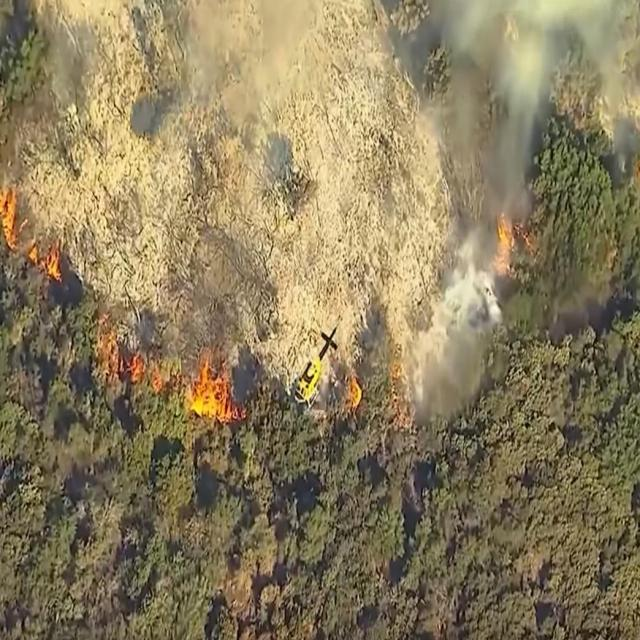Fire: (185, 361, 239, 427), (30, 242, 66, 286), (2, 185, 24, 252), (495, 210, 517, 253)
